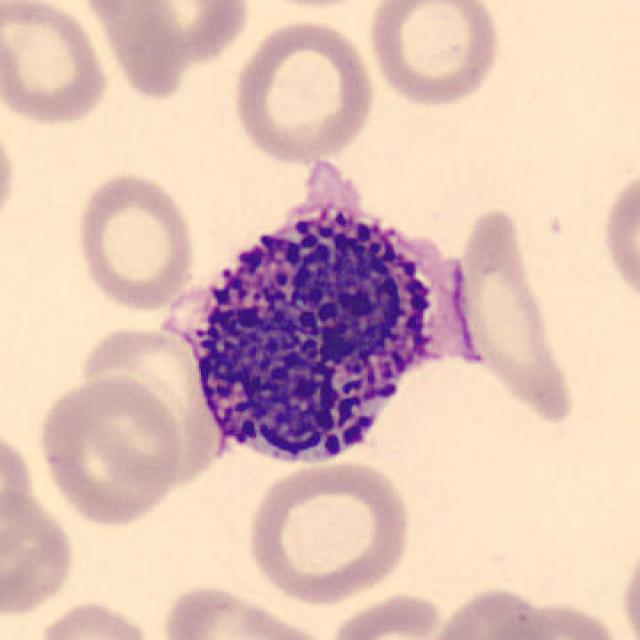Basophil: (156, 169, 468, 482)
RBC: (444, 199, 570, 434), (242, 455, 418, 606), (74, 321, 226, 488), (34, 370, 185, 529), (228, 16, 378, 166), (71, 167, 201, 314), (364, 0, 504, 109), (0, 0, 114, 129), (84, 0, 254, 74), (0, 469, 78, 622), (156, 580, 336, 640), (423, 583, 558, 640), (324, 589, 454, 640), (597, 161, 640, 312), (485, 597, 631, 640), (32, 597, 162, 640), (0, 111, 20, 242), (617, 527, 640, 640), (236, 0, 385, 12)
